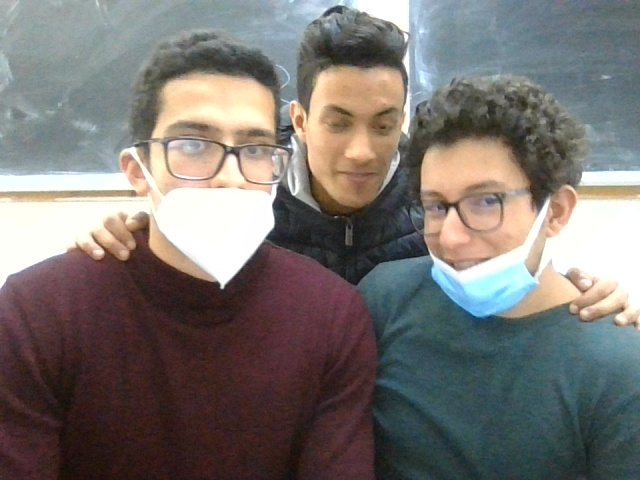mask_weared_incorrect: (129, 33, 296, 299), (403, 82, 566, 313)
without_mask: (294, 11, 410, 208)
